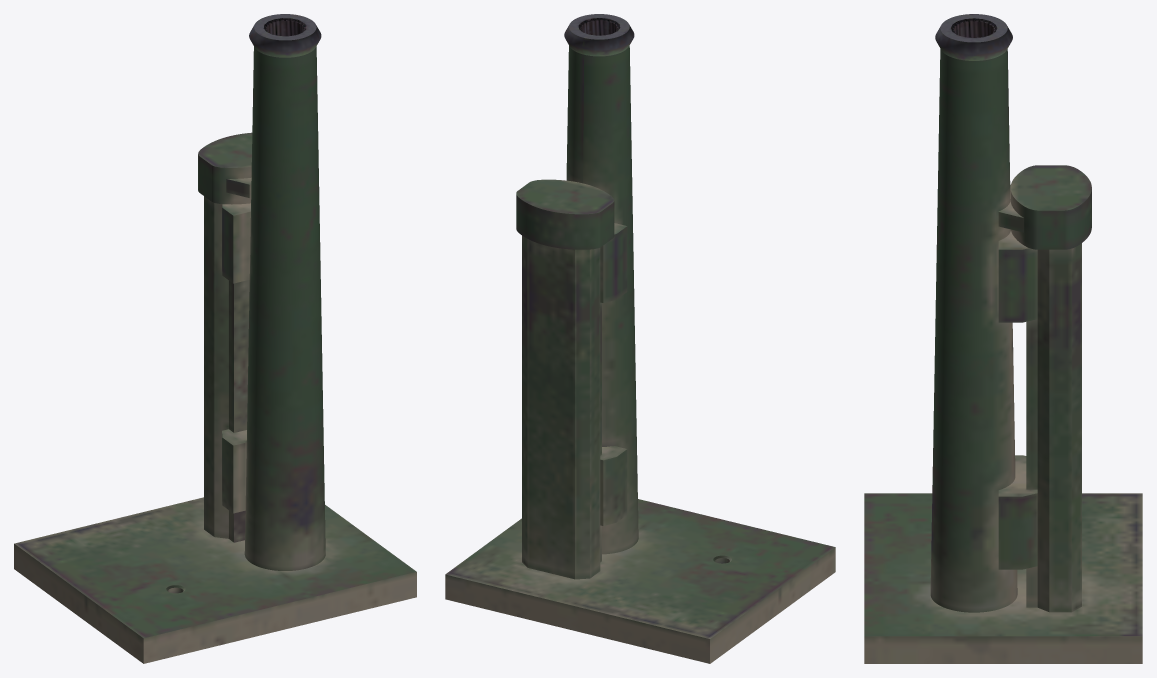
Rendered from Gun_03.glb.
3 renders of one model, left to right at view 1: azimuth 30°, elevation 25°; view 2: azimuth 150°, elevation 25°; view 3: azimuth 270°, elevation 25°, orthographic. The views are drawn at different scales.
Parts seen in each view (by area): view 1: set_0_group_0; view 2: set_0_group_0; view 3: set_0_group_0.
Boxes of the visible parts, left/top/right/bottom form: set_0_group_0: left=14, top=14, right=416, bottom=663; set_0_group_0: left=445, top=14, right=835, bottom=663; set_0_group_0: left=864, top=14, right=1142, bottom=663.
Size of the model in its own units: 0.3733 by 0.7214 by 0.3066.
Materials: 1 (1 with a texture image).
